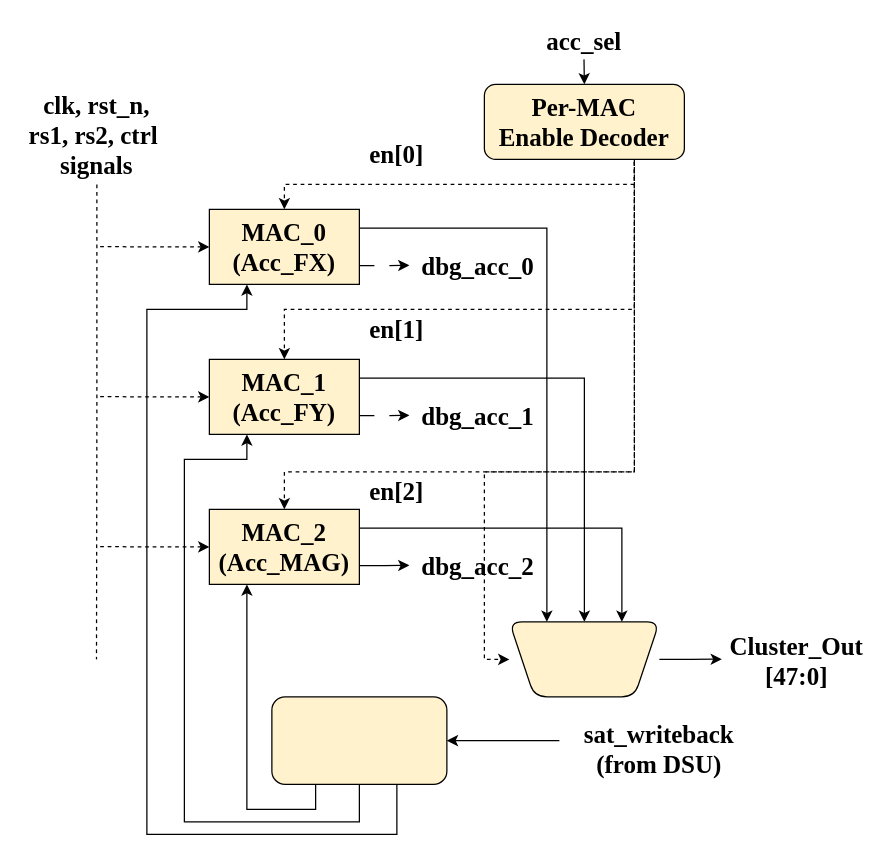
This 893x866 diagram has some shape labels left out. The shapes that lost their labels are listed below. From the top down, each one's centre as x and y in pixels, then its label:
At (x=583, y=659): "3 : 1 Mux".
At (x=359, y=740): "Saturation Writeback Router".
